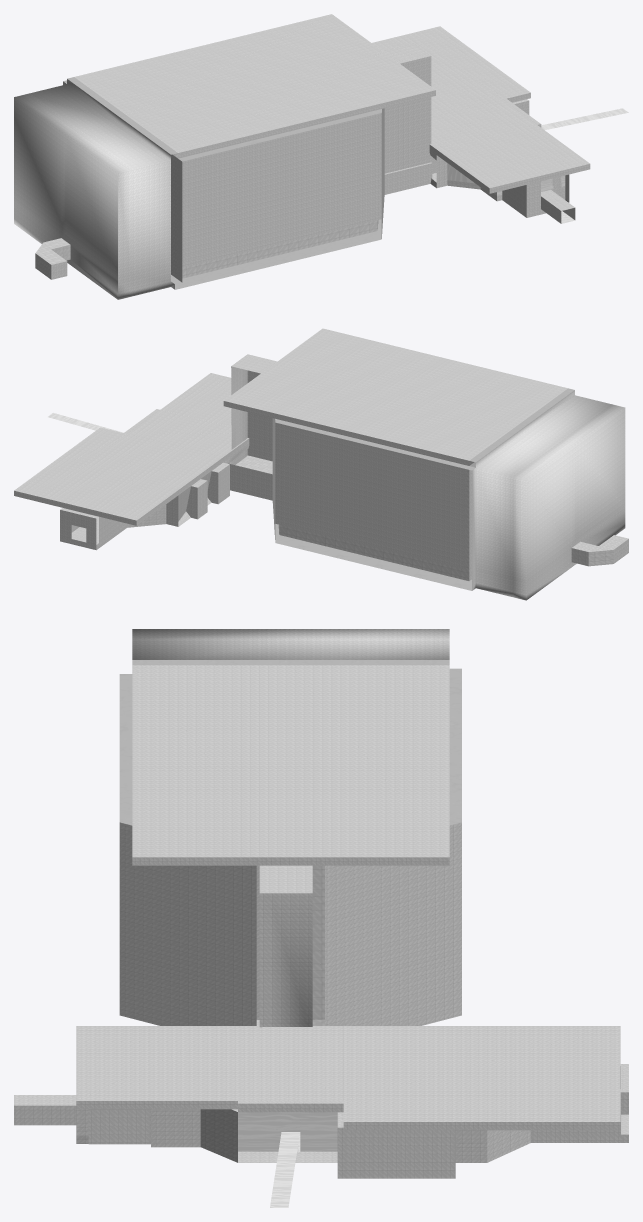
Rendered from mainroomWHITE.fbx.
The picture shows the model from 3 angles, top to bottom: view 1: azimuth 30°, elevation 25°; view 2: azimuth 150°, elevation 25°; view 3: azimuth 270°, elevation 25°; orthographic projection. The views are drawn at different scales.
Parts seen in each view (by area): view 1: mesh_26.001; view 2: mesh_26.001; view 3: mesh_26.001.
Part boxes in pixels (x1,y1,x2,y2): mesh_26.001: (14, 14, 628, 299); mesh_26.001: (14, 328, 628, 600); mesh_26.001: (14, 629, 628, 1207).
Size of the model in its own units: 10712 by 2288 by 6326.
